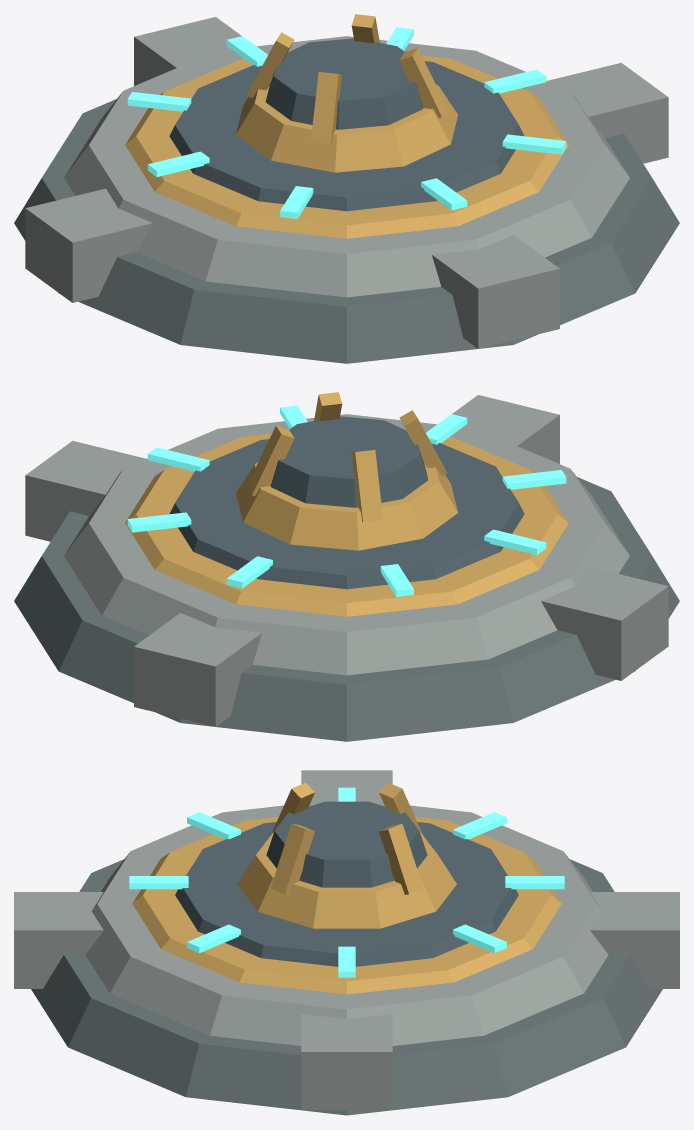
File: ward_foundation.glb
3 renders of one model, top to bottom at view 1: azimuth 30°, elevation 25°; view 2: azimuth 150°, elevation 25°; view 3: azimuth 270°, elevation 25°, orthographic. The views are drawn at different scales.
Parts seen in each view (by area): view 1: Ward_Foundation_Upper, Ward_Foundation_Base, Ward_Foundation_Core, Ward_Foundation_Inlay, Ward_Foundation_Buttress_4, Ward_Foundation_Socket_Well, Ward_Foundation_Socket, Ward_Foundation_Buttress_3, Ward_Foundation_Buttress_1, Ward_Foundation_Buttress_2, Ward_Foundation_Socket_Prong_3, Ward_Foundation_Socket_Prong_4 (+9 smaller); view 2: Ward_Foundation_Upper, Ward_Foundation_Base, Ward_Foundation_Core, Ward_Foundation_Inlay, Ward_Foundation_Buttress_2, Ward_Foundation_Socket_Well, Ward_Foundation_Socket, Ward_Foundation_Buttress_3, Ward_Foundation_Buttress_1, Ward_Foundation_Buttress_4, Ward_Foundation_Socket_Prong_2, Ward_Foundation_Socket_Prong_1 (+9 smaller); view 3: Ward_Foundation_Base, Ward_Foundation_Upper, Ward_Foundation_Core, Ward_Foundation_Inlay, Ward_Foundation_Socket, Ward_Foundation_Buttress_1, Ward_Foundation_Socket_Well, Ward_Foundation_Buttress_2, Ward_Foundation_Buttress_4, Ward_Foundation_Buttress_3, Ward_Foundation_Socket_Prong_1, Ward_Foundation_Socket_Prong_4 (+9 smaller).
Boxes of the visible parts, x1,y1,x2,y2 form: Ward_Foundation_Upper: [64, 36, 629, 297]; Ward_Foundation_Base: [14, 99, 679, 363]; Ward_Foundation_Core: [169, 61, 524, 211]; Ward_Foundation_Inlay: [125, 55, 568, 238]; Ward_Foundation_Buttress_4: [432, 234, 559, 348]; Ward_Foundation_Socket_Well: [265, 38, 423, 129]; Ward_Foundation_Socket: [236, 84, 457, 172]; Ward_Foundation_Buttress_3: [25, 188, 152, 302]; Ward_Foundation_Buttress_1: [547, 62, 668, 163]; Ward_Foundation_Buttress_2: [134, 17, 241, 85]; Ward_Foundation_Socket_Prong_3: [310, 72, 342, 144]; Ward_Foundation_Socket_Prong_4: [399, 47, 447, 117]; Ward_Foundation_Upper: [64, 414, 629, 675]; Ward_Foundation_Base: [14, 477, 679, 741]; Ward_Foundation_Core: [169, 439, 524, 589]; Ward_Foundation_Inlay: [125, 433, 568, 616]; Ward_Foundation_Buttress_2: [134, 612, 261, 726]; Ward_Foundation_Socket_Well: [270, 416, 428, 507]; Ward_Foundation_Socket: [236, 462, 457, 550]; Ward_Foundation_Buttress_3: [541, 566, 668, 680]; Ward_Foundation_Buttress_1: [25, 440, 146, 541]; Ward_Foundation_Buttress_4: [452, 395, 559, 463]; Ward_Foundation_Socket_Prong_2: [351, 450, 383, 522]; Ward_Foundation_Socket_Prong_1: [246, 425, 294, 495]; Ward_Foundation_Base: [31, 859, 662, 1115]; Ward_Foundation_Upper: [85, 799, 608, 1045]; Ward_Foundation_Core: [175, 822, 518, 966]; Ward_Foundation_Inlay: [132, 816, 561, 994]; Ward_Foundation_Socket: [237, 832, 456, 928]; Ward_Foundation_Buttress_1: [301, 1014, 392, 1110]; Ward_Foundation_Socket_Well: [266, 801, 427, 887]; Ward_Foundation_Buttress_2: [590, 892, 679, 988]; Ward_Foundation_Buttress_4: [14, 892, 103, 988]; Ward_Foundation_Buttress_3: [301, 770, 392, 802]; Ward_Foundation_Socket_Prong_1: [379, 823, 422, 894]; Ward_Foundation_Socket_Prong_4: [271, 823, 314, 894].
Size of the model in its own units: 2.48 by 0.7119 by 2.48.
